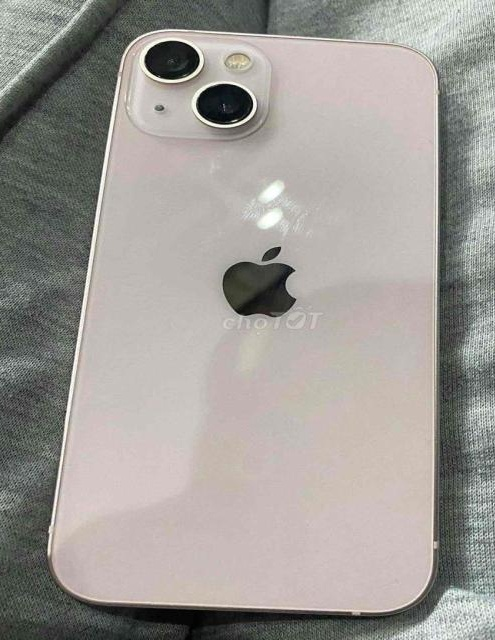scratch: (135, 142, 375, 345)
